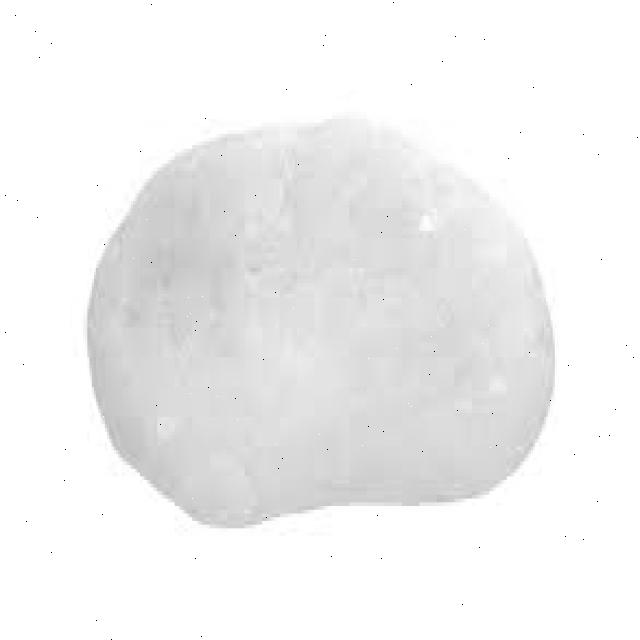Metamorphic: (88, 104, 562, 547)
